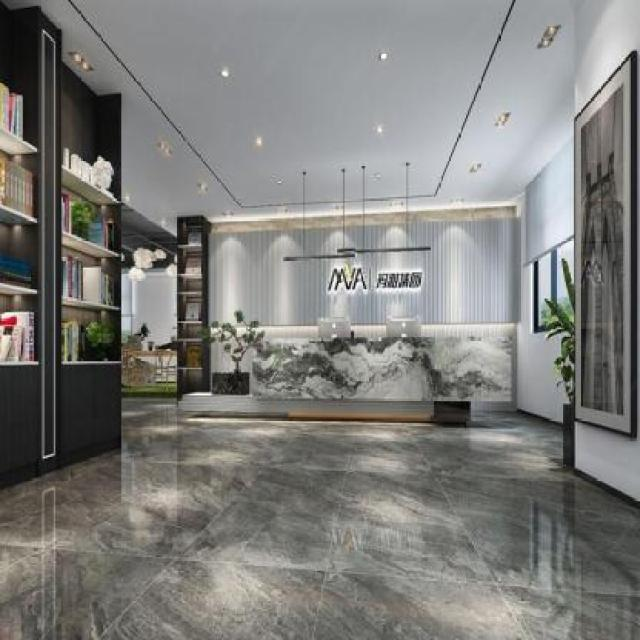frontdesk: (238, 311, 526, 430)
